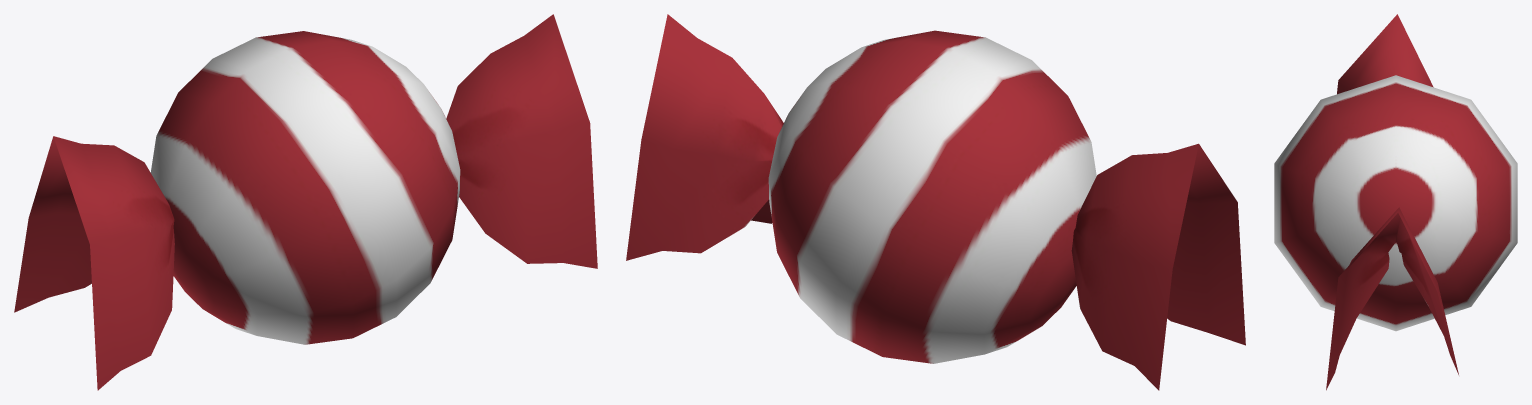
Rendered from FBX_candy.fbx.
3 renders of one model, left to right at view 1: azimuth 30°, elevation 25°; view 2: azimuth 150°, elevation 25°; view 3: azimuth 270°, elevation 25°, orthographic. The views are drawn at different scales.
Visible parts, largest first — view 1: polySurface17; view 2: polySurface17; view 3: polySurface17.
Part boxes in pixels (x1=…): polySurface17: x1=14, y1=14, x2=597, y2=390; polySurface17: x1=626, y1=14, x2=1245, y2=390; polySurface17: x1=1274, y1=14, x2=1517, y2=390.
Bounding box in the file's own units: 3.79 × 2.06 × 1.97.
